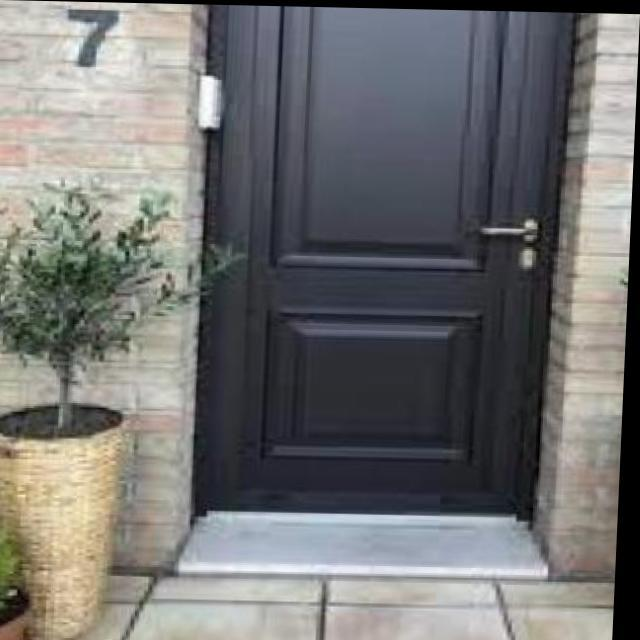door_handle: (466, 214, 548, 246)
